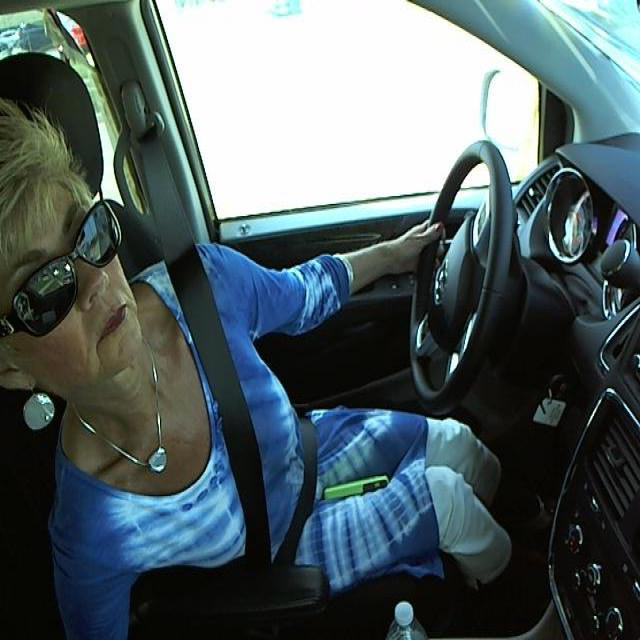seatbelt: (165, 256, 330, 555)
